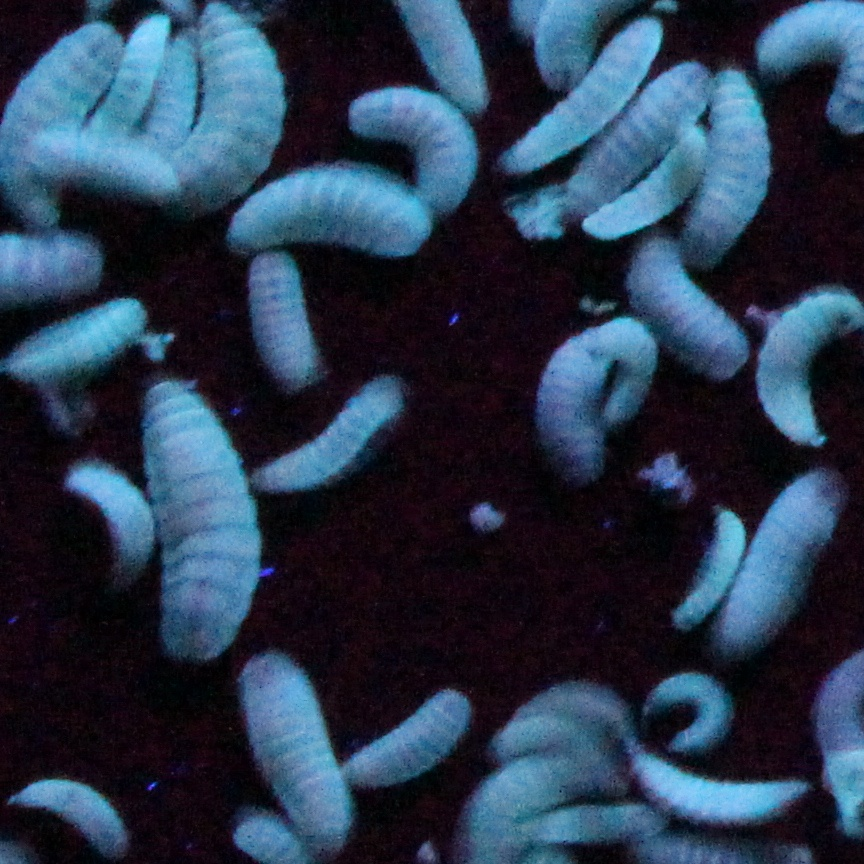larve: (141, 379, 263, 664), (531, 64, 714, 237), (230, 647, 350, 849), (504, 23, 665, 167), (721, 471, 848, 645), (350, 74, 482, 215), (226, 171, 436, 259), (265, 379, 409, 498), (694, 69, 775, 279), (624, 237, 748, 374), (341, 685, 472, 787), (624, 751, 806, 822), (592, 132, 707, 240), (28, 120, 177, 203), (1, 767, 125, 863), (65, 462, 155, 589), (541, 325, 614, 476), (246, 250, 324, 386), (87, 15, 172, 137), (675, 510, 746, 640), (518, 679, 635, 746), (146, 15, 202, 140), (509, 799, 660, 844), (648, 675, 733, 748), (609, 318, 653, 428)
